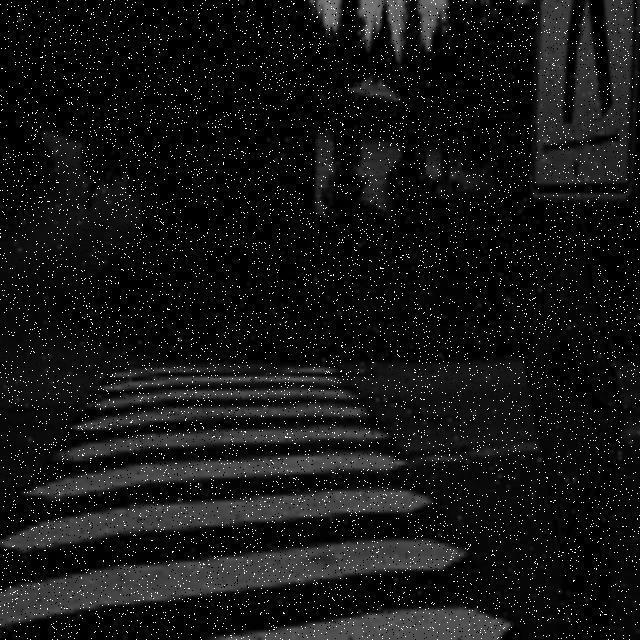crosswalk: (5, 371, 521, 638)
